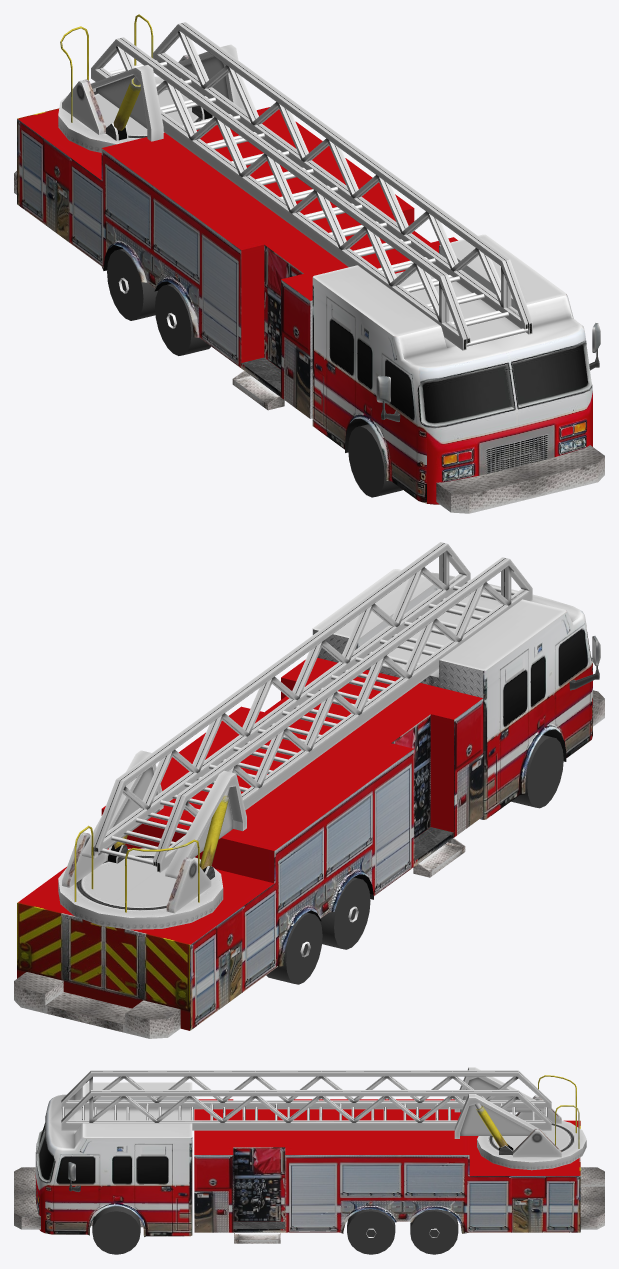
File: gz-firetruck.glb
The picture shows the model from 3 angles, top to bottom: view 1: azimuth 30°, elevation 25°; view 2: azimuth 150°, elevation 25°; view 3: azimuth 270°, elevation 25°; orthographic projection. The views are drawn at different scales.
Parts seen in each view (by area): view 1: object 1, wheel_rr2, wheel_fr, wheel_rr; view 2: object 1, wheel_rr, wheel_fr, wheel_rr2; view 3: object 1, wheel_fl, wheel_rl, wheel_rl2.
Part boxes in pixels (x1,y1,x2,y2): object 1: (14,14,604,513); wheel_rr2: (107,248,157,320); wheel_fr: (348,424,402,497); wheel_rr: (155,283,210,355); object 1: (14,542,604,1038); wheel_rr: (320,877,370,949); wheel_fr: (511,735,563,808); wheel_rr2: (266,912,322,984); object 1: (14,1067,604,1243); wheel_fl: (92,1206,140,1254); wheel_rl: (347,1209,395,1254); wheel_rl2: (410,1209,458,1254).
Size of the model in its own units: 3.55 by 3.36 by 12.43.
Materials: 3 (1 with a texture image).
